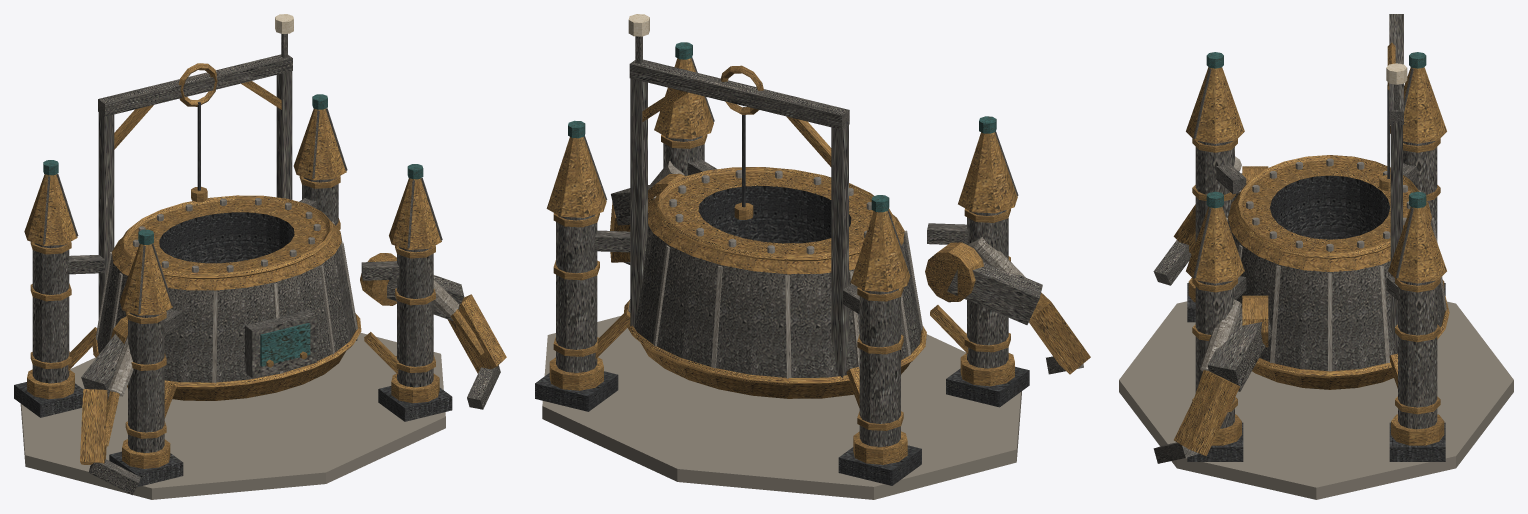
The model's file is claw-carcass-rig.glb.
3 views of the same model, side by side, from view 1: azimuth 30°, elevation 25°; view 2: azimuth 150°, elevation 25°; view 3: azimuth 270°, elevation 25° (orthographic). The views are drawn at different scales.
Parts seen in each view (by area): view 1: claw-carcass-rig; view 2: claw-carcass-rig; view 3: claw-carcass-rig.
Boxes of the visible parts, <box> form: claw-carcass-rig: <box>14,14,506,499</box>; claw-carcass-rig: <box>535,14,1090,499</box>; claw-carcass-rig: <box>1119,14,1513,499</box>.
Size of the model in its own units: 8.5 by 6.63 by 6.4.
Materials: 1 (1 with a texture image).
